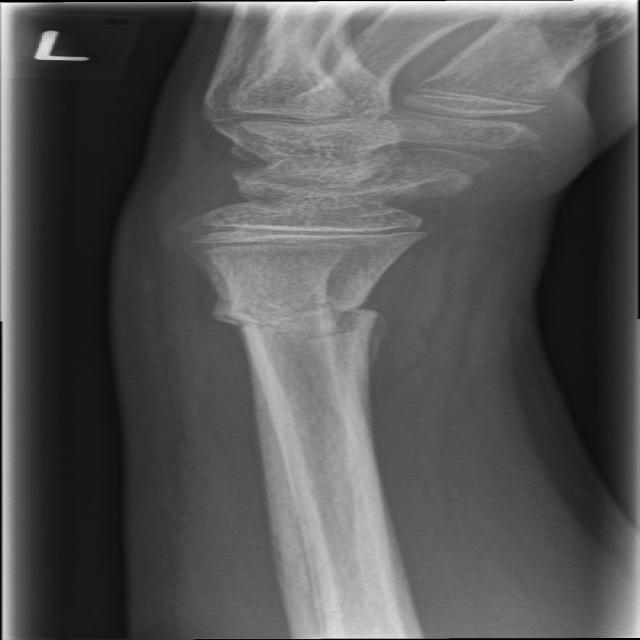fracture: (166, 214, 434, 257), (198, 298, 395, 344)
